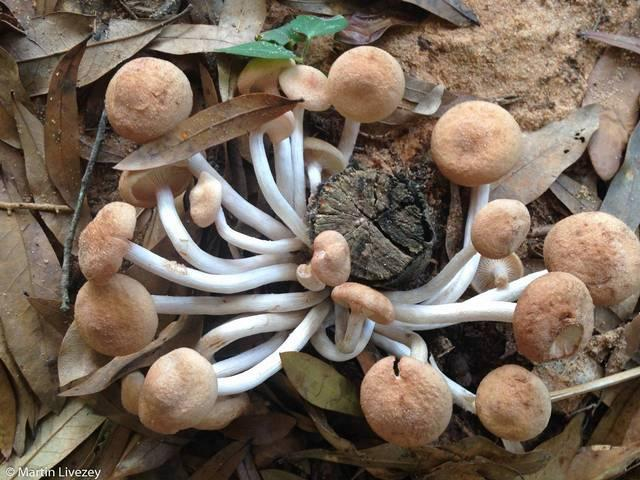edible_mushroom: (65, 42, 638, 446), (429, 99, 522, 260)
